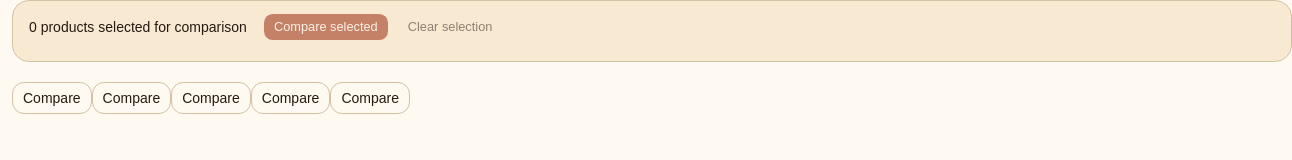
Test case: ComparisonTray › uses selection order for its comparison link and clear action
What coordinates should you click on to do the following:
click the button with aria-label "Compare product"
I would click on:
 (131, 98)
Its box is [92,82,171,114].
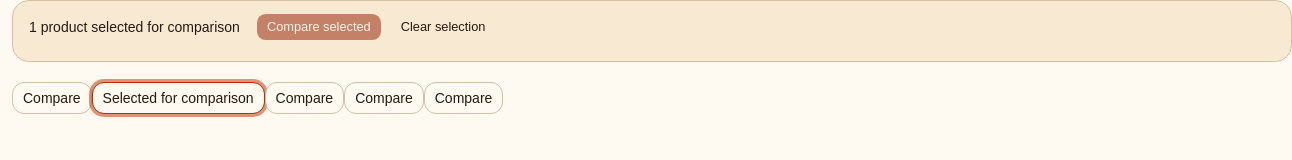
What coordinates should you click on to do the following:
click the button with aria-label "Compare product"
I would click on:
 (52, 98)
Its box is [12,82,92,114].
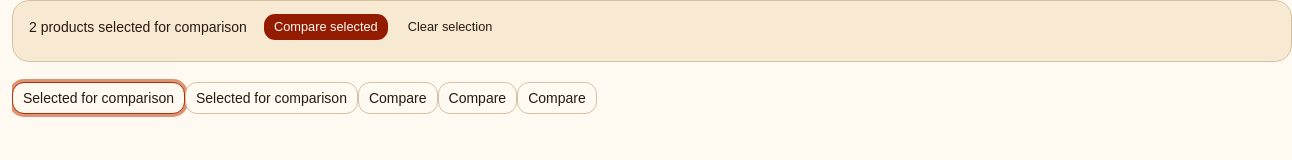
What coordinates should you click on to do the following:
click the button "Clear selection"
I would click on:
 (450, 27)
Its box is [397,13,504,41].
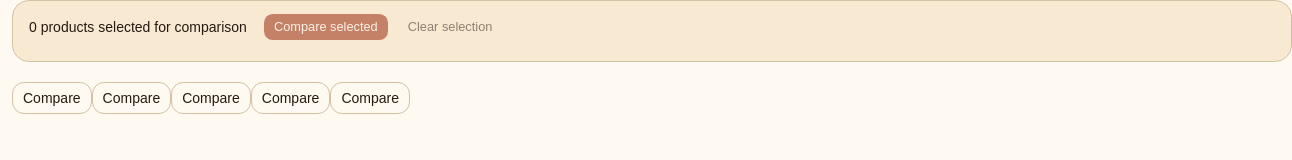
Check: the button "Compare selected" is disabled, box [263,13,389,41]
Check: the text "0 products selected for comparison" is shown, box [29,17,247,37]
